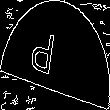P_S: (41, 26, 69, 84)
